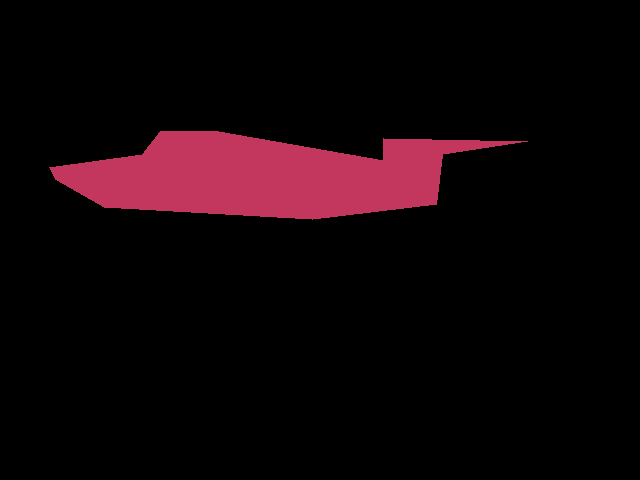Airplane: (49, 131, 527, 220)
